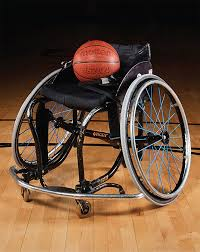wheelchair: (12, 78, 185, 211)
